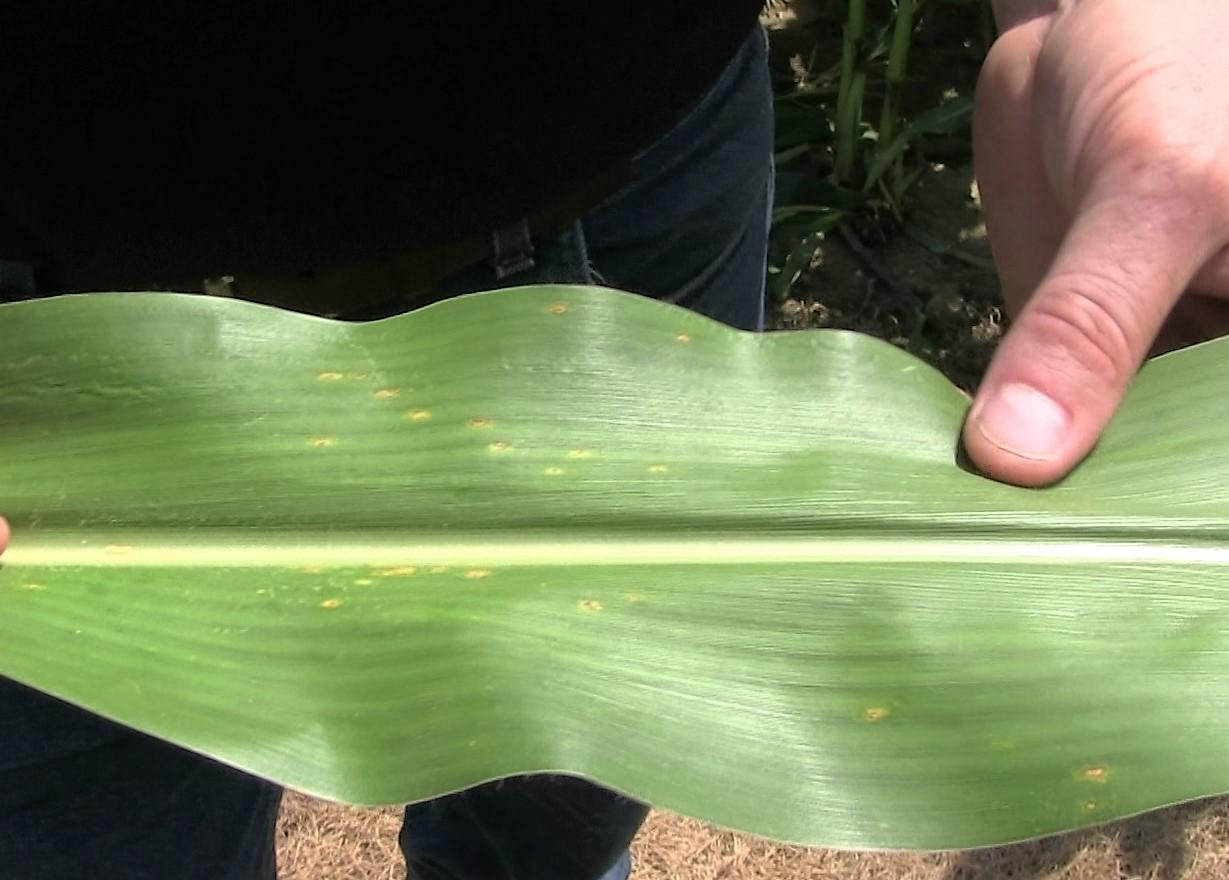Corn rust leaf: (17, 282, 963, 858)
